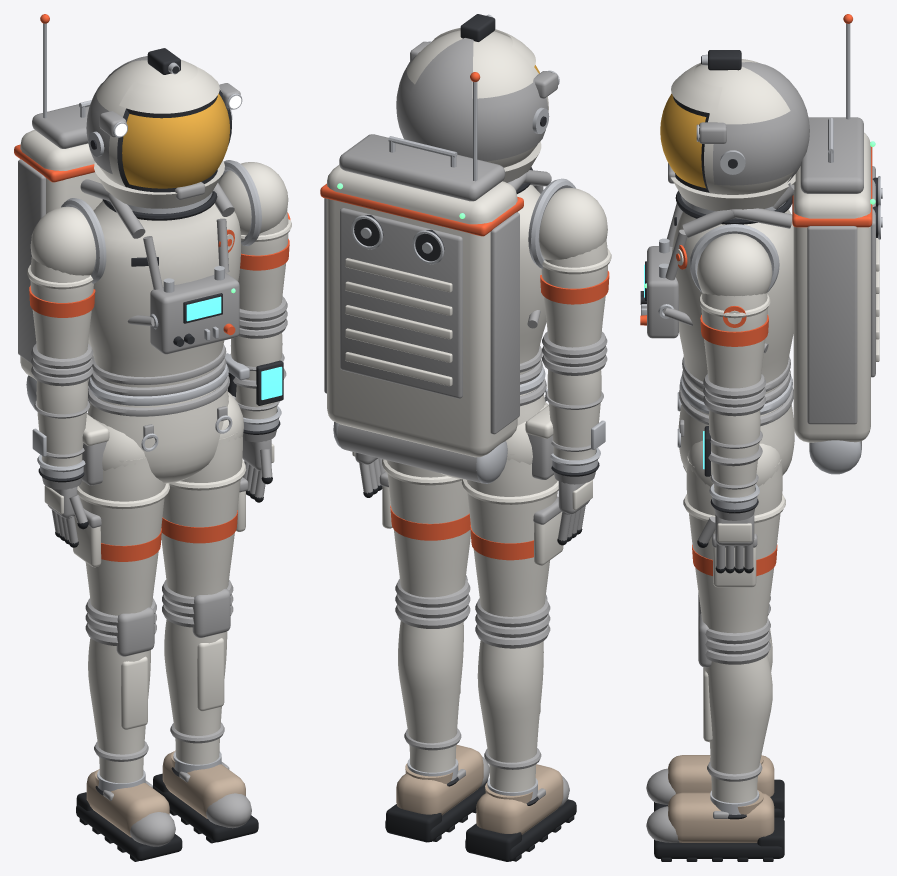
Rendered from astronaut.glb.
3 views of the same model, side by side, from view 1: azimuth 30°, elevation 25°; view 2: azimuth 150°, elevation 25°; view 3: azimuth 270°, elevation 25° (orthographic). The views are drawn at different scales.
Parts seen in each view (by area): view 1: Torso, Head, LegUpper_R, LegUpper_L, Hips, ArmUpper_R, LegLower_L, LegLower_R, ArmUpper_L, Foot_R, Foot_L, ArmLower_R (+3 smaller); view 2: Torso, Head, LegUpper_R, LegUpper_L, ArmUpper_R, LegLower_R, LegLower_L, Foot_R, Foot_L, ArmLower_R, Hips, Hand_R (+1 smaller); view 3: Torso, Head, LegUpper_L, ArmUpper_L, LegLower_L, Foot_L, ArmLower_L, Hips, Foot_R, Hand_L.
Boxes of the visible parts, x1,y1,x2,y2 form: Torso: [14, 14, 261, 410]; Head: [86, 48, 242, 208]; LegUpper_R: [73, 413, 169, 645]; LegUpper_L: [161, 391, 248, 627]; Hips: [82, 353, 249, 485]; ArmUpper_R: [27, 206, 95, 386]; LegLower_L: [164, 588, 230, 776]; LegLower_R: [88, 607, 154, 795]; ArmUpper_L: [218, 162, 291, 338]; Foot_R: [76, 769, 182, 861]; Foot_L: [153, 750, 258, 843]; ArmLower_R: [32, 380, 90, 482]; Torso: [320, 72, 575, 483]; Head: [396, 14, 559, 182]; LegUpper_R: [461, 402, 563, 648]; LegUpper_L: [379, 459, 470, 628]; ArmUpper_R: [539, 188, 611, 375]; LegLower_R: [477, 595, 547, 805]; LegLower_L: [398, 575, 467, 786]; Foot_R: [465, 764, 576, 861]; Foot_L: [385, 744, 489, 842]; ArmLower_R: [545, 369, 605, 476]; Hips: [441, 366, 553, 479]; Hand_R: [553, 471, 595, 545]; Torso: [640, 14, 882, 474]; Head: [660, 50, 809, 211]; LegUpper_L: [683, 440, 785, 664]; ArmUpper_L: [697, 233, 772, 416]; LegLower_L: [698, 613, 772, 819]; Foot_L: [646, 790, 784, 861]; ArmLower_L: [703, 410, 762, 513]; Hips: [677, 375, 794, 475]; Foot_R: [646, 755, 784, 818]; Hand_L: [697, 508, 755, 573].
Bounding box in the file's own units: 0.658 × 1.92 × 0.534.
